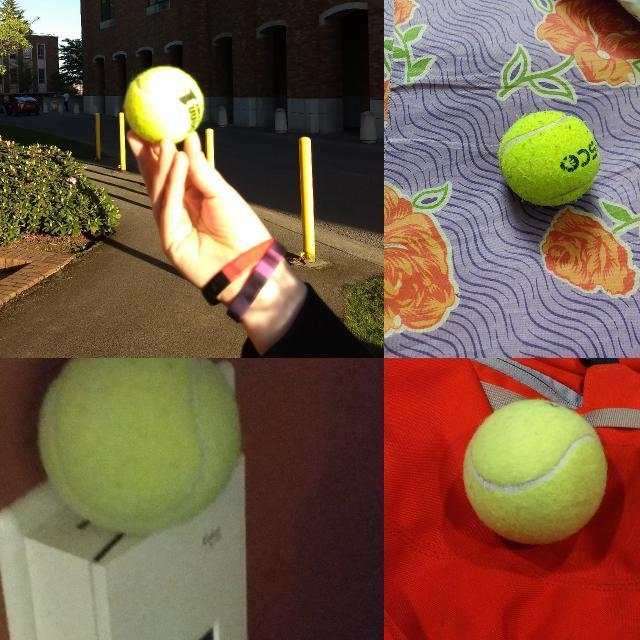tennis-ball: (33, 358, 245, 535), (462, 398, 608, 546), (498, 109, 601, 208), (123, 64, 206, 142)
